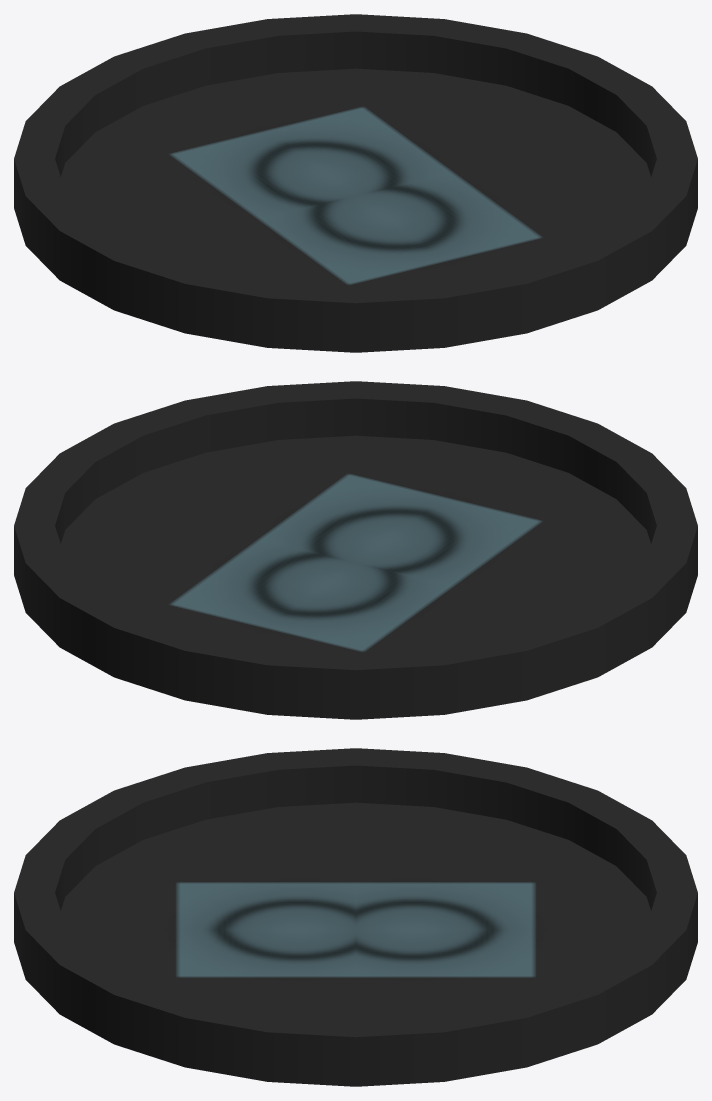
The model's file is tantares_parachute_s0_1.obj.
The picture shows the model from 3 angles, top to bottom: view 1: azimuth 30°, elevation 25°; view 2: azimuth 150°, elevation 25°; view 3: azimuth 270°, elevation 25°; orthographic projection.
Visible parts, largest first — view 1: mesh; view 2: mesh; view 3: mesh.
Part boxes in pixels (<box>): mesh: <box>14,14,697,352</box>; mesh: <box>14,381,697,719</box>; mesh: <box>14,748,697,1086</box>.
Size of the model in its own units: 0.625 by 0.0875 by 0.625.
